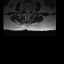CCS_normal: (27, 8, 28, 14)
LFS_normal: (30, 8, 31, 12)
LLS_normal: (28, 8, 29, 13)
RFS_stenosis: (24, 7, 25, 12)
RLS_normal: (25, 8, 27, 13)
